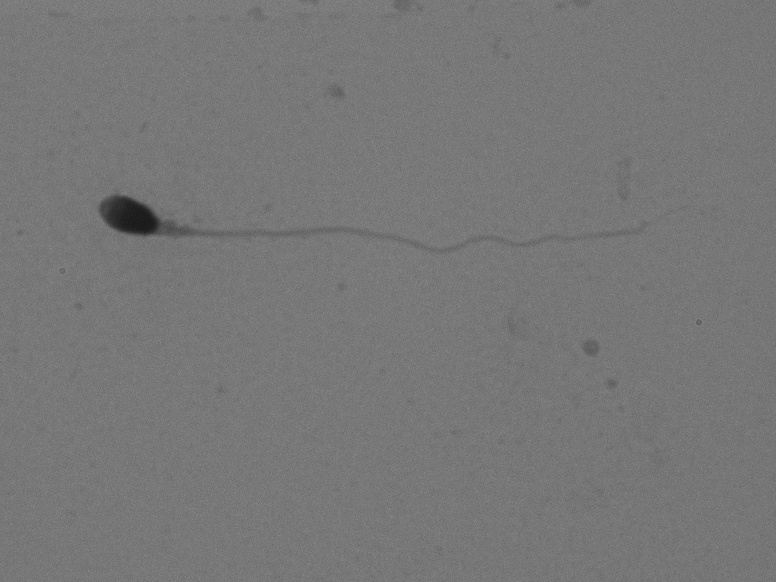Normal: (95, 178, 694, 290)
